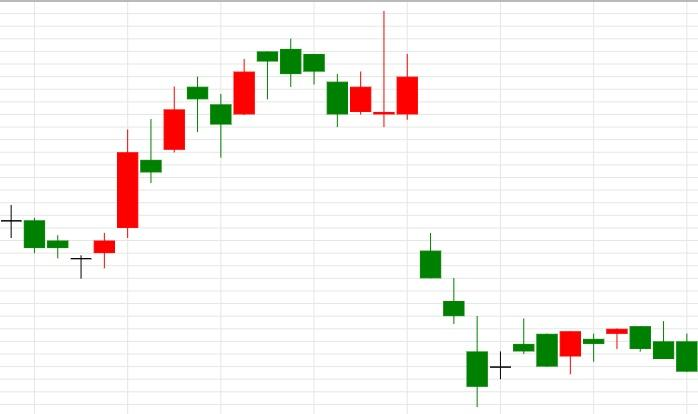evening_star_fall: (71, 76, 231, 280)
